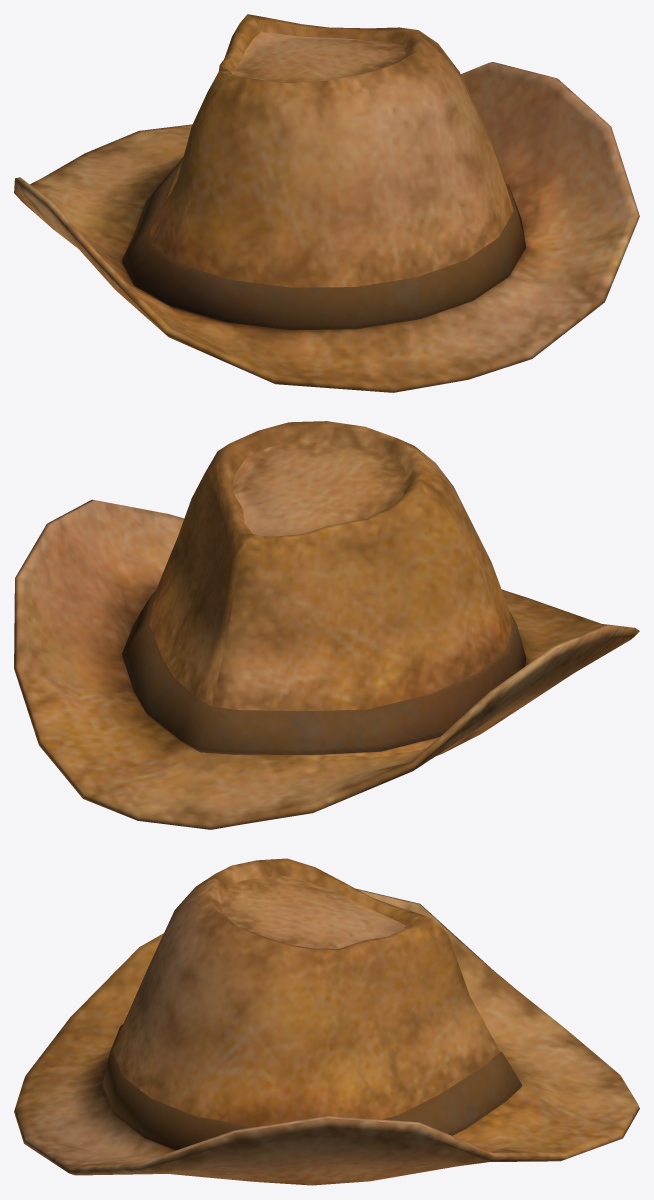
File: Laid-Back_Cowboy.obj
3 renders of one model, top to bottom at view 1: azimuth 30°, elevation 25°; view 2: azimuth 150°, elevation 25°; view 3: azimuth 270°, elevation 25°, orthographic. The views are drawn at different scales.
Parts seen in each view (by area): view 1: Laidbackcowboy1; view 2: Laidbackcowboy1; view 3: Laidbackcowboy1.
Part boxes in pixels (x1=…): Laidbackcowboy1: x1=14, y1=14, x2=639, y2=392; Laidbackcowboy1: x1=14, y1=421, x2=639, y2=829; Laidbackcowboy1: x1=14, y1=858, x2=639, y2=1185.
Size of the model in its own units: 1.95 by 0.839 by 2.15.
Materials: 1 (1 with a texture image).
